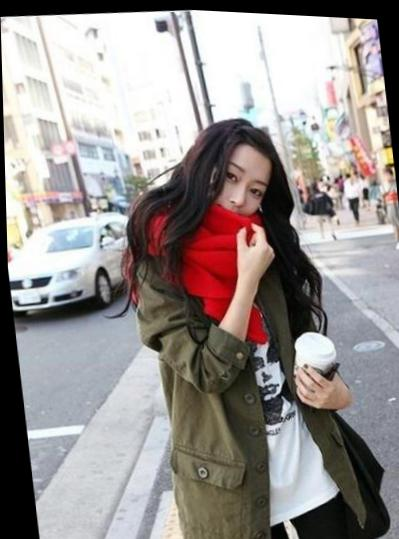WRONG: (200, 149, 277, 228)
